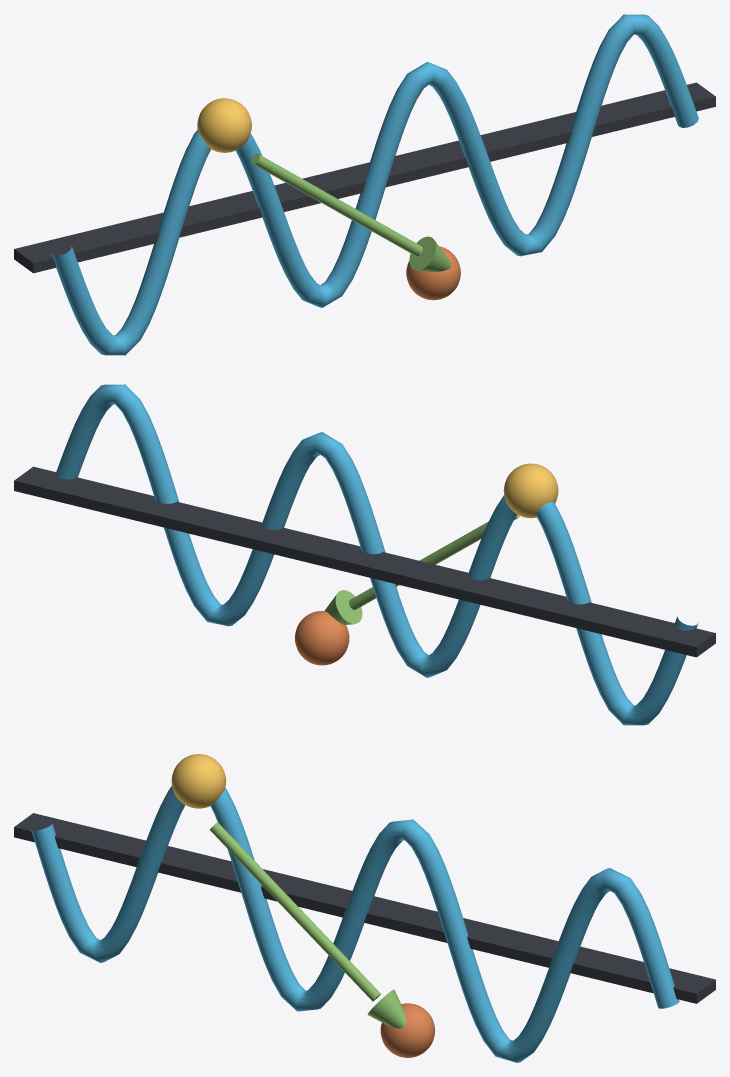
Rendered from physics-waves-crest-trough.glb.
3 renders of one model, top to bottom at view 1: azimuth 30°, elevation 25°; view 2: azimuth 150°, elevation 25°; view 3: azimuth 330°, elevation 25°, orthographic.
Parts seen in each view (by area): view 1: wave-curve-energy-transfer, rest-line-reference, crest-high-point, crest-trough-read-line-shaft, trough-low-point, crest-trough-read-line-head; view 2: wave-curve-energy-transfer, rest-line-reference, trough-low-point, crest-high-point, crest-trough-read-line-shaft, crest-trough-read-line-head; view 3: wave-curve-energy-transfer, rest-line-reference, crest-trough-read-line-shaft, crest-high-point, trough-low-point, crest-trough-read-line-head.
Part boxes in pixels (x1,y1,x2,y2): wave-curve-energy-transfer: (50, 14, 698, 355); rest-line-reference: (14, 82, 715, 273); crest-high-point: (197, 98, 251, 152); crest-trough-read-line-shaft: (251, 153, 422, 256); trough-low-point: (406, 246, 460, 300); crest-trough-read-line-head: (409, 236, 451, 271); wave-curve-energy-transfer: (55, 384, 698, 725); rest-line-reference: (14, 466, 715, 657); trough-low-point: (294, 611, 349, 665); crest-high-point: (503, 463, 558, 518); crest-trough-read-line-shaft: (349, 514, 519, 609); crest-trough-read-line-head: (324, 590, 362, 624); wave-curve-energy-transfer: (31, 786, 679, 1062); rest-line-reference: (14, 813, 715, 1003); crest-trough-read-line-shaft: (210, 822, 380, 1001); crest-high-point: (171, 754, 226, 808); trough-low-point: (380, 1003, 435, 1057); crest-trough-read-line-head: (367, 989, 406, 1028).
Size of what is drawn, in the model's own units: 2.45 by 0.85 by 0.2476.
